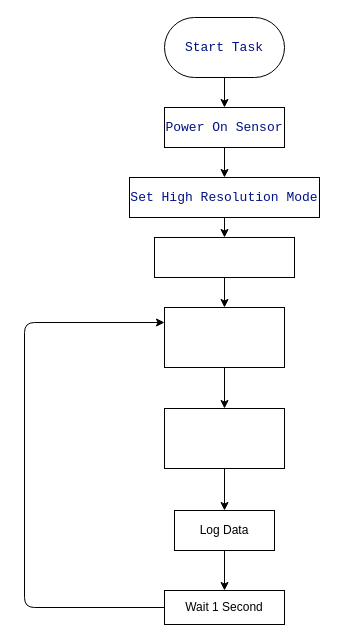
Some shapes in this 337 by 642 pixel diagram are drawn without their labels. Here are the shapes that lost their labels. From the top down, the centre of each, then its label:
the point at 224,257: Wait 180ms for Stabilization
the point at 224,337: Read Raw Data
the point at 224,438: Convert Raw to Lux
